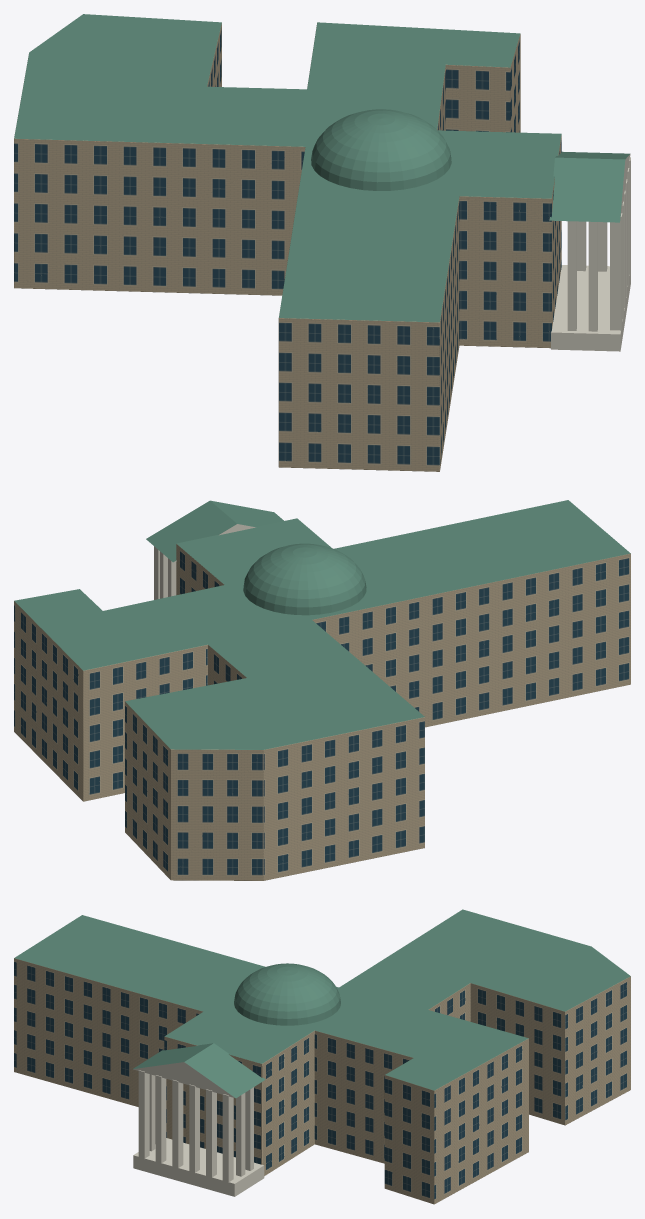
The model's file is intact.glb.
3 renders of one model, top to bottom at view 1: azimuth 30°, elevation 25°; view 2: azimuth 150°, elevation 25°; view 3: azimuth 270°, elevation 25°, orthographic. The views are drawn at different scales.
Parts seen in each view (by area): view 1: SM_MainV2_Intact; view 2: SM_MainV2_Intact; view 3: SM_MainV2_Intact.
Boxes of the visible parts, bbox=[...] form: SM_MainV2_Intact: bbox=[14, 14, 630, 471]; SM_MainV2_Intact: bbox=[14, 500, 630, 880]; SM_MainV2_Intact: bbox=[14, 909, 630, 1204].
Bounding box in the file's own units: 1.95 × 0.7334 × 2.8.
3 materials, 1 textured.
